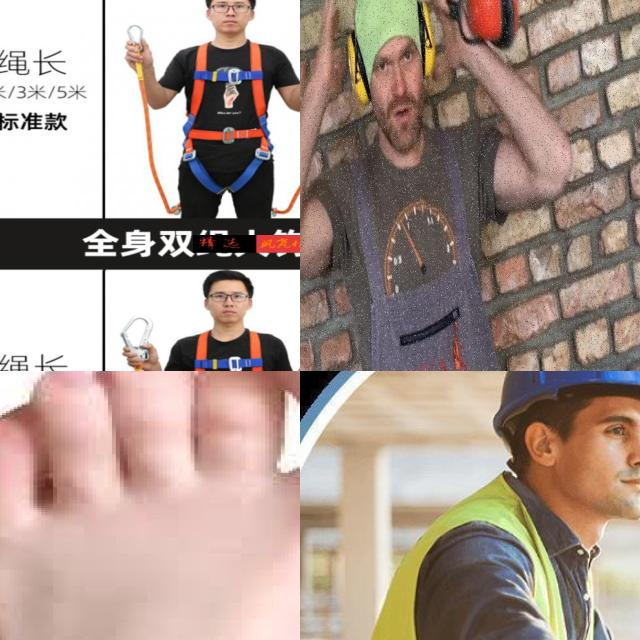Barefoots: (0, 371, 300, 640)
Ear-protection: (411, 0, 441, 89), (344, 24, 372, 113)
Harness: (190, 40, 274, 193), (183, 321, 276, 371)
No_Ear-Protection: (524, 421, 559, 467)
No_Glasses: (592, 410, 640, 446)
face_nomask: (572, 397, 640, 529)
head_helmet: (490, 371, 640, 425)
person: (345, 371, 640, 640)
vest: (367, 479, 637, 640)
